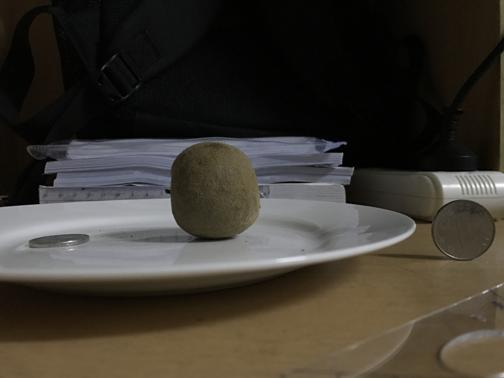coin: (433, 199, 495, 259)
qiwi: (164, 143, 262, 240)
